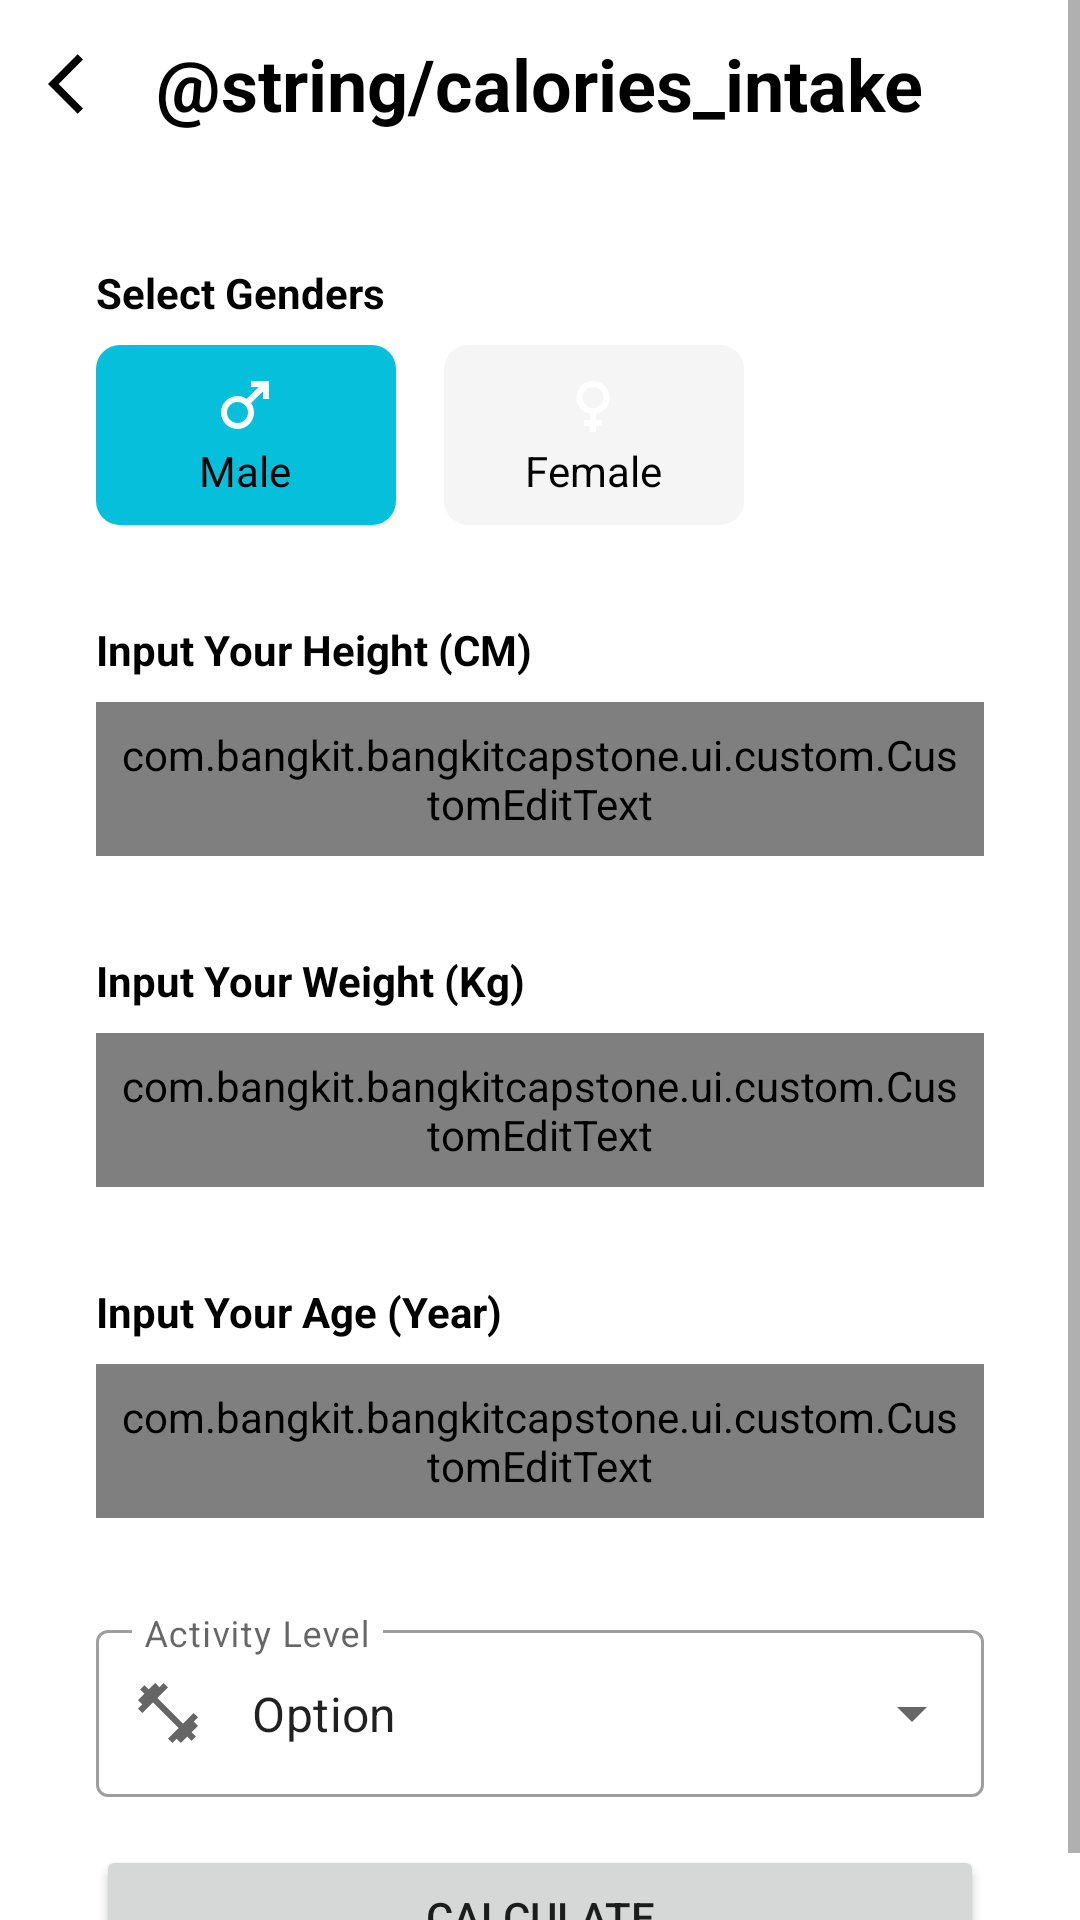

Icons on this 1080 x 1920 Android screen, each with the point to tap as point (x, y):
Back Button: point (65, 84)
